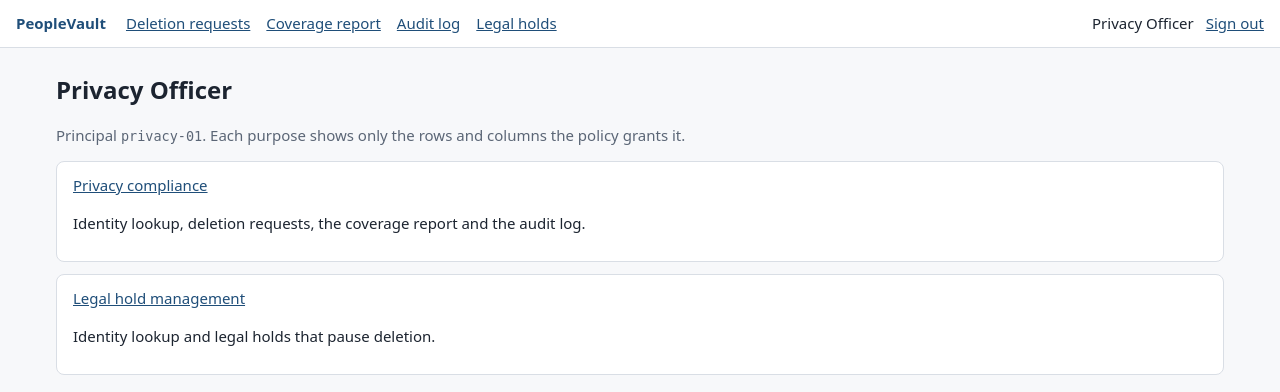
Test: purpose scoping › navigates without a page load and keeps the URL free of anything typed
The image size is (1280, 392).
Click the link "Legal holds" at (516, 23), box [476,12,557,34]
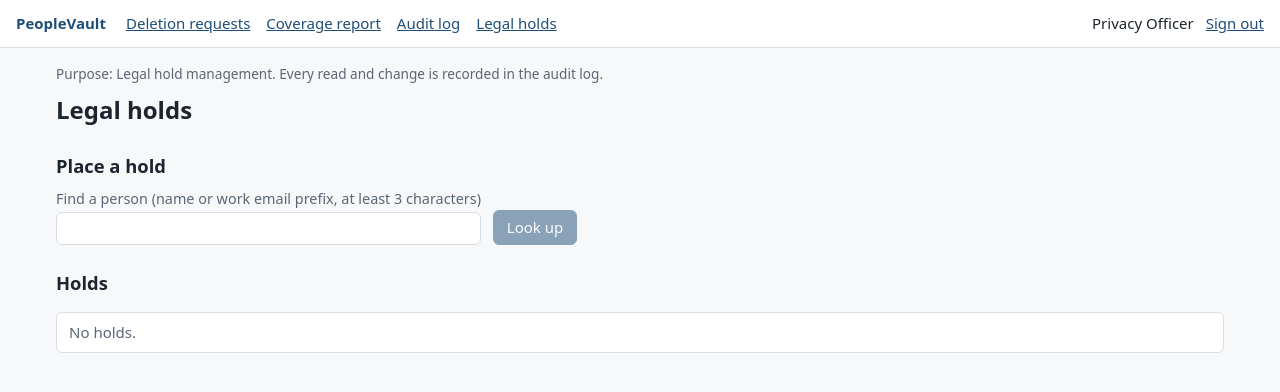
Now the heading "Legal holds" is shown, box [56,93,192,126]
